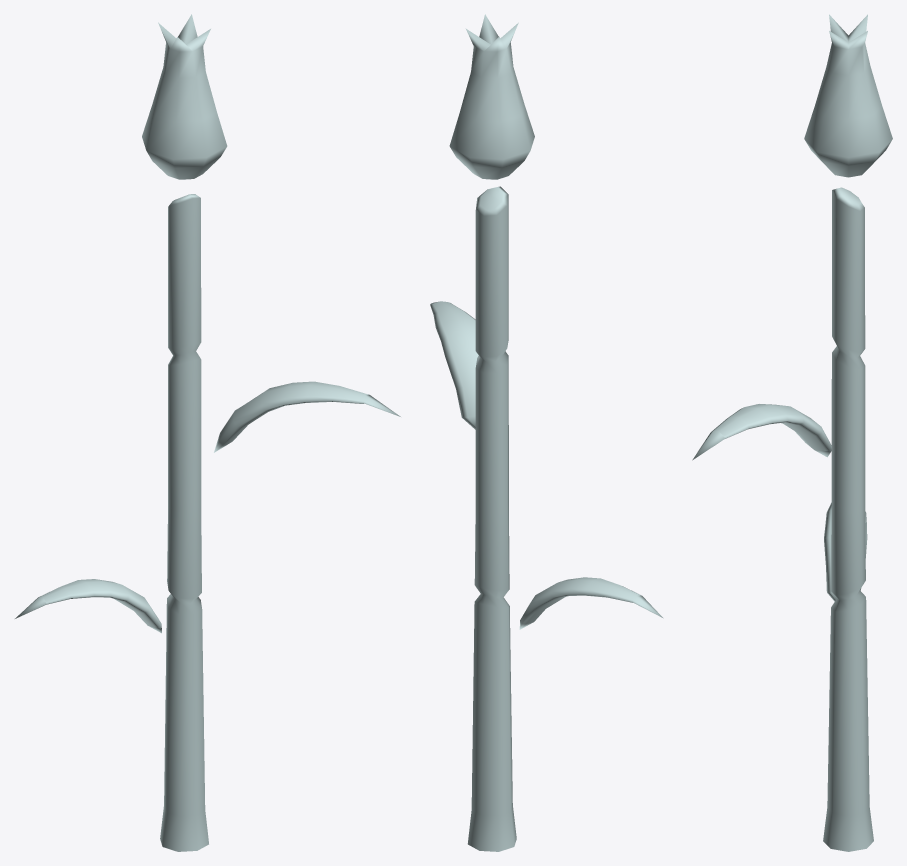
The model's file is cometPlant_stage2.fbx.
3 views of the same model, side by side, from view 1: azimuth 30°, elevation 25°; view 2: azimuth 150°, elevation 25°; view 3: azimuth 270°, elevation 25° (orthographic).
Visible parts, largest first — view 1: phase2_comet_stem, phase2_comet_pod, phase2_comet_leaf2, phase2_comet_leaf1; view 2: phase2_comet_stem, phase2_comet_pod, phase2_comet_leaf2, phase2_comet_leaf1; view 3: phase2_comet_stem, phase2_comet_pod, phase2_comet_leaf2, phase2_comet_leaf1.
Boxes of the visible parts, box(x1,y1,x2,y2) form: phase2_comet_stem: box(160, 194, 208, 851); phase2_comet_pod: box(142, 14, 227, 179); phase2_comet_leaf2: box(214, 381, 400, 452); phase2_comet_leaf1: box(15, 579, 161, 633); phase2_comet_stem: box(467, 186, 516, 851); phase2_comet_pod: box(449, 14, 534, 179); phase2_comet_leaf2: box(430, 301, 478, 429); phase2_comet_leaf1: box(519, 577, 663, 629); phase2_comet_stem: box(823, 187, 873, 851); phase2_comet_pod: box(804, 14, 892, 177); phase2_comet_leaf2: box(692, 404, 831, 460); phase2_comet_leaf1: box(824, 502, 867, 601).
Size of the model in its own units: 41.77 by 105 by 23.35.
